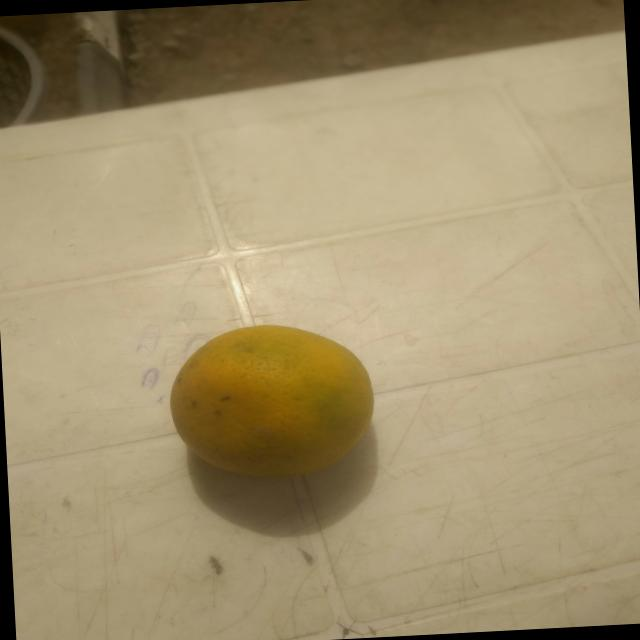Ripe orange: (161, 299, 380, 508)
